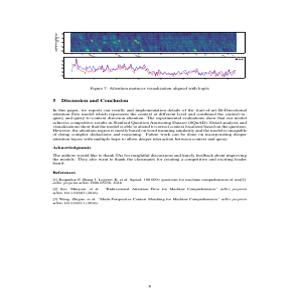diagram: (47, 24, 251, 85)
text: (47, 97, 250, 207)
